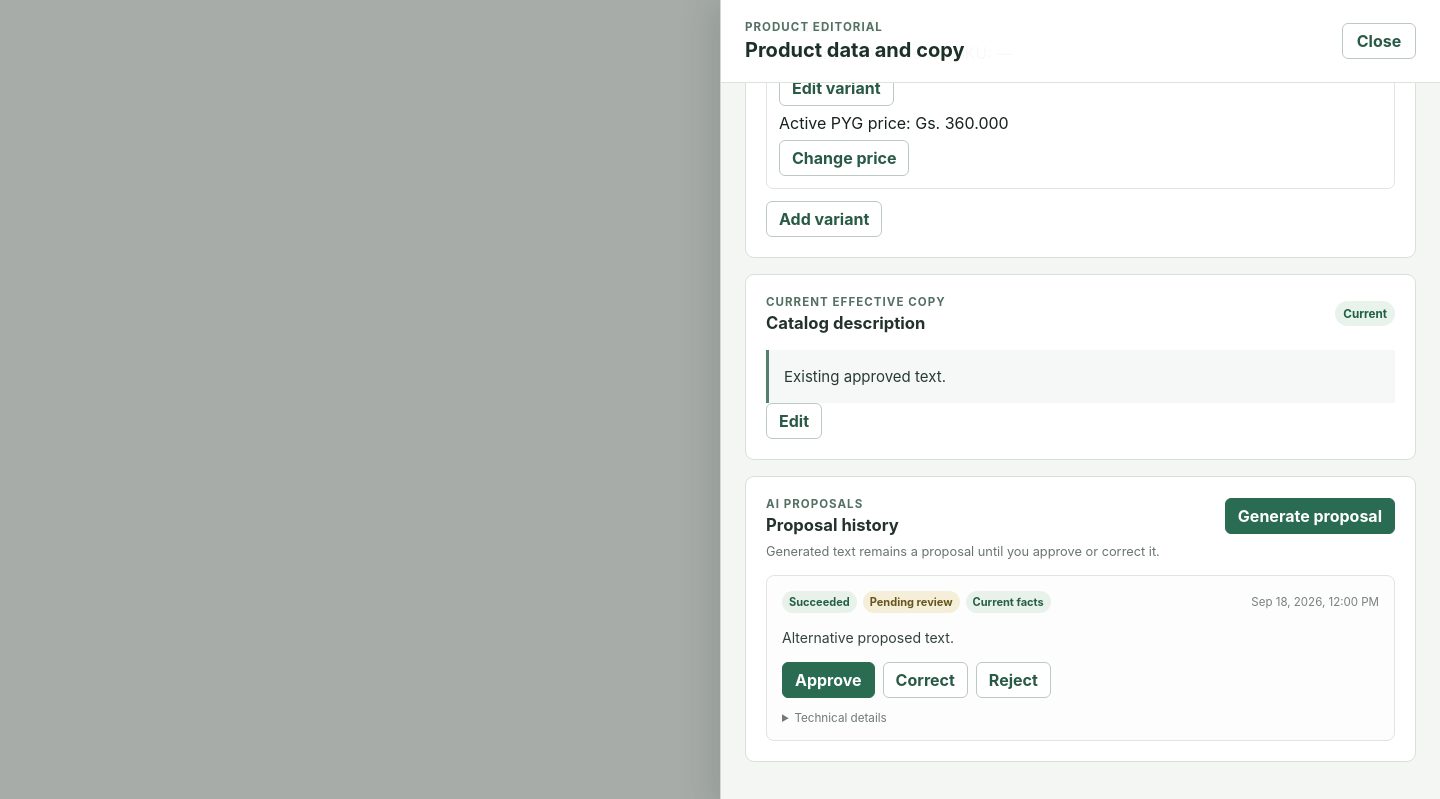
Test: ProductEditorialDrawer › edits current copy with cancel, validation, and save
(page scrolled)
Click the button "Edit" at (794, 421), box [766, 403, 822, 439]
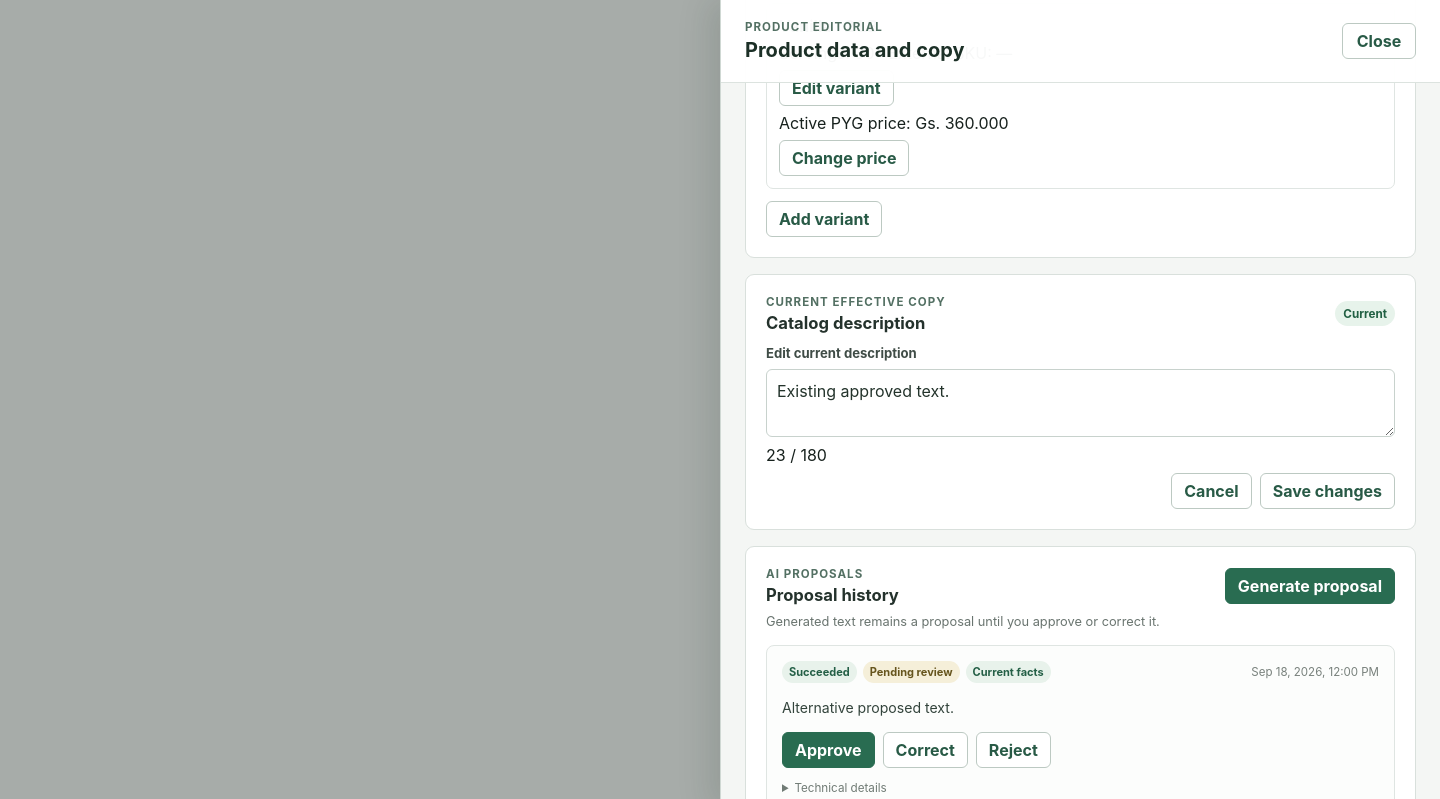
Now the text box labelled "Edit current description" holds "Existing approved text."
Now the text "23 / 180" is shown, box [766, 445, 827, 465]
Clear the text box labelled "Edit current description" at (1080, 403), box [766, 369, 1395, 437]
Click the button "Save changes" at (1327, 491), box [1260, 473, 1395, 509]
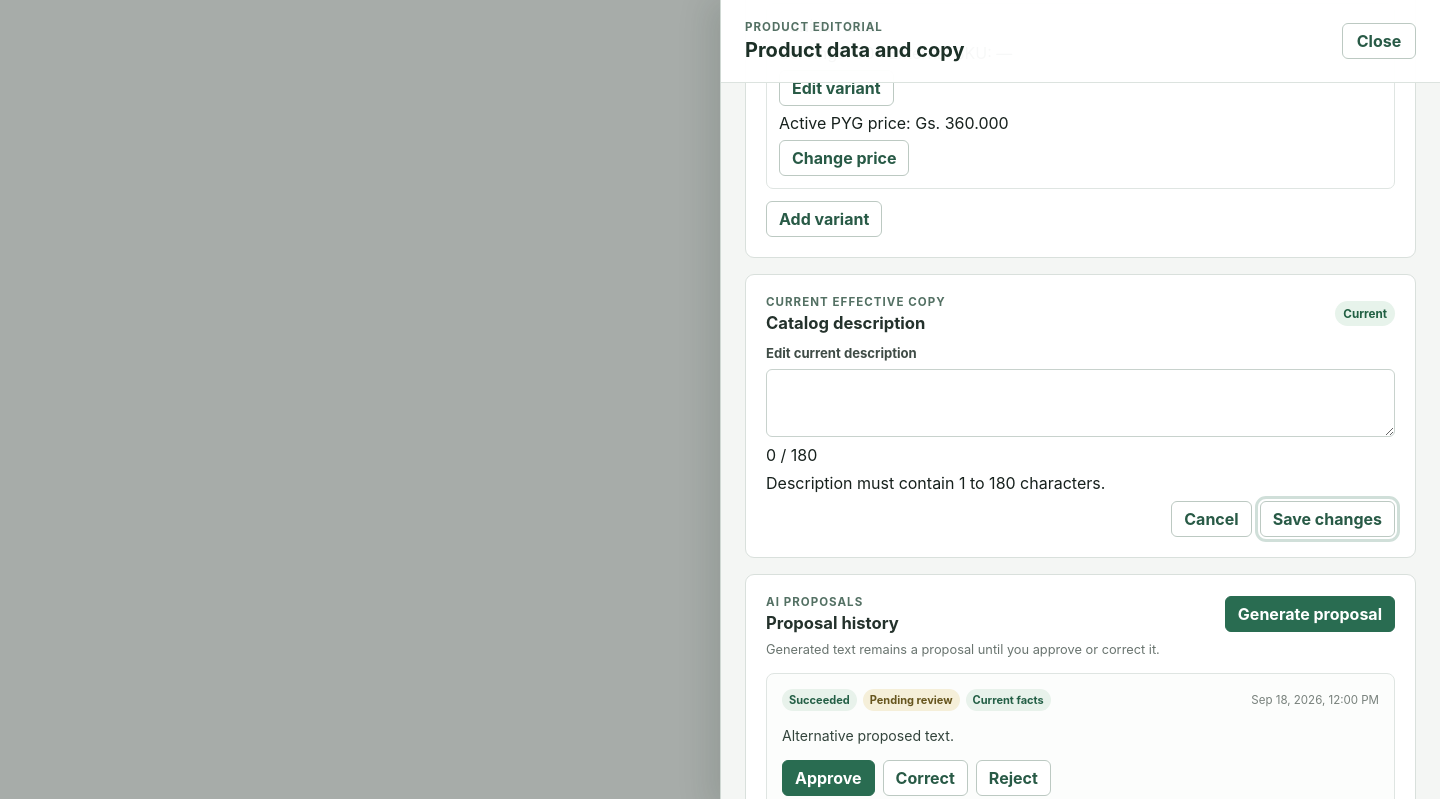
Now the text "Description must contain 1 to 180 characters." is shown, box [766, 473, 1105, 493]
Type "Discard me" into the text box labelled "Edit current description" at (1080, 403), box [766, 369, 1395, 437]
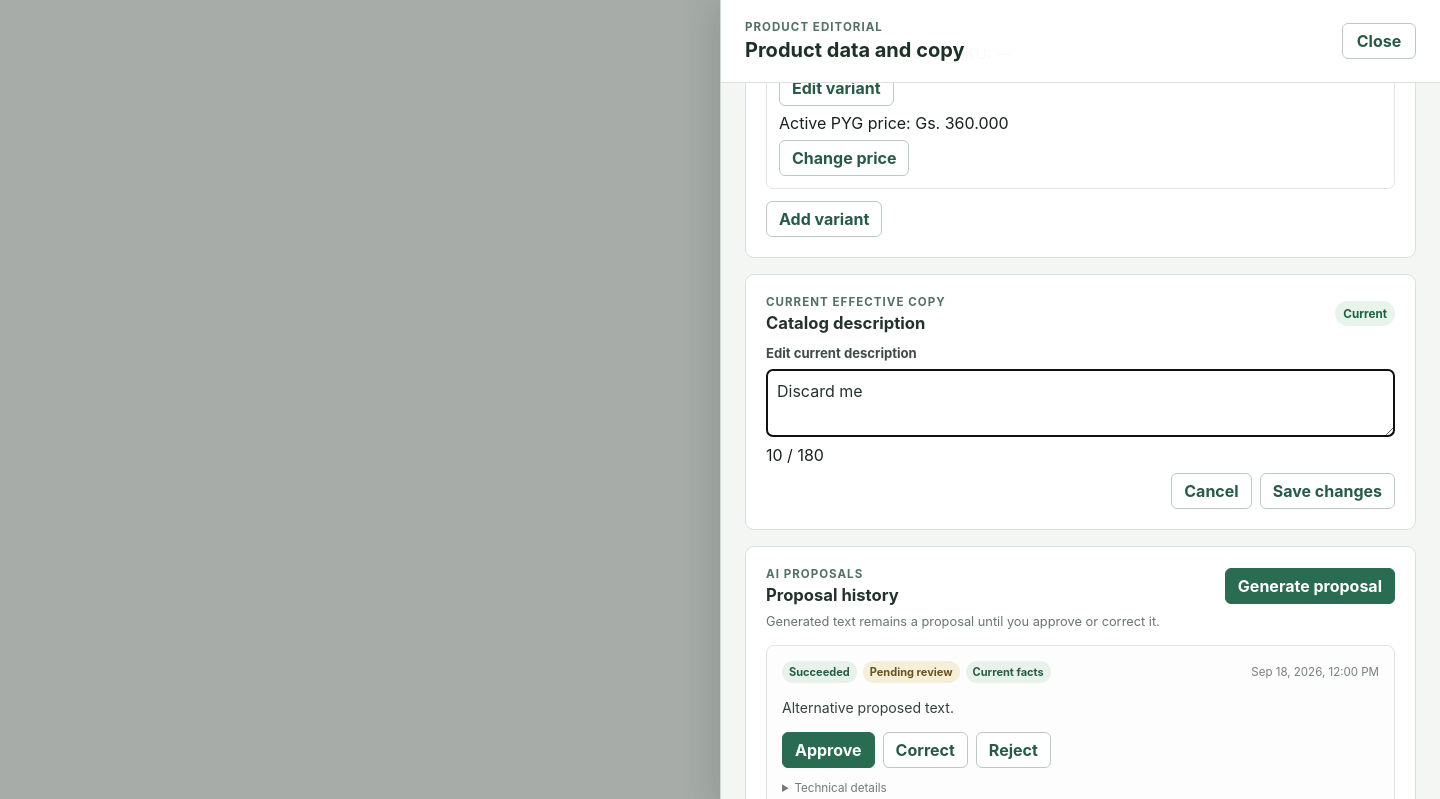
Click the button "Cancel" at (1212, 491), box [1171, 473, 1252, 509]
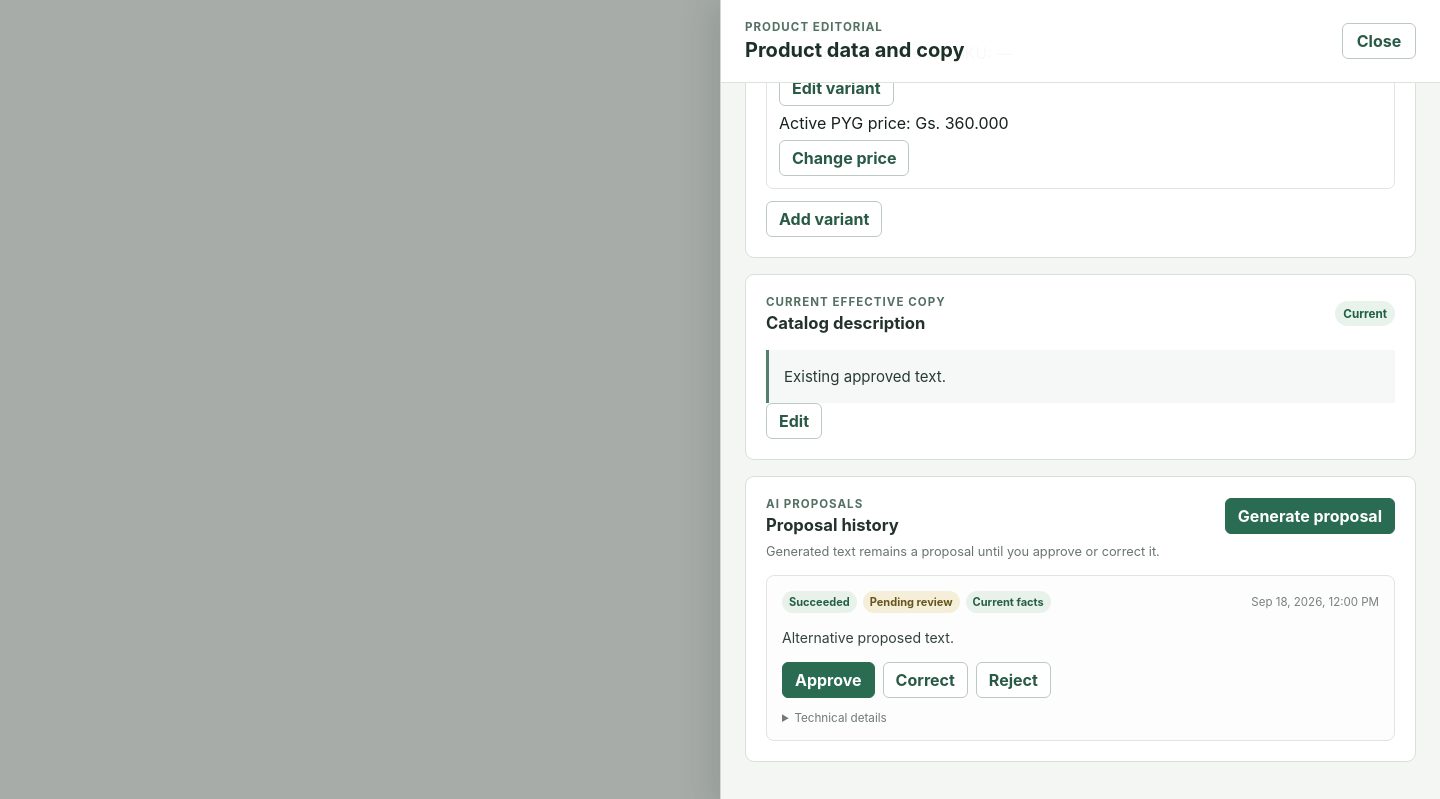
Now the text "Existing approved text." is shown, box [766, 350, 1395, 403]
Click the button "Edit" at (794, 421), box [766, 403, 822, 439]
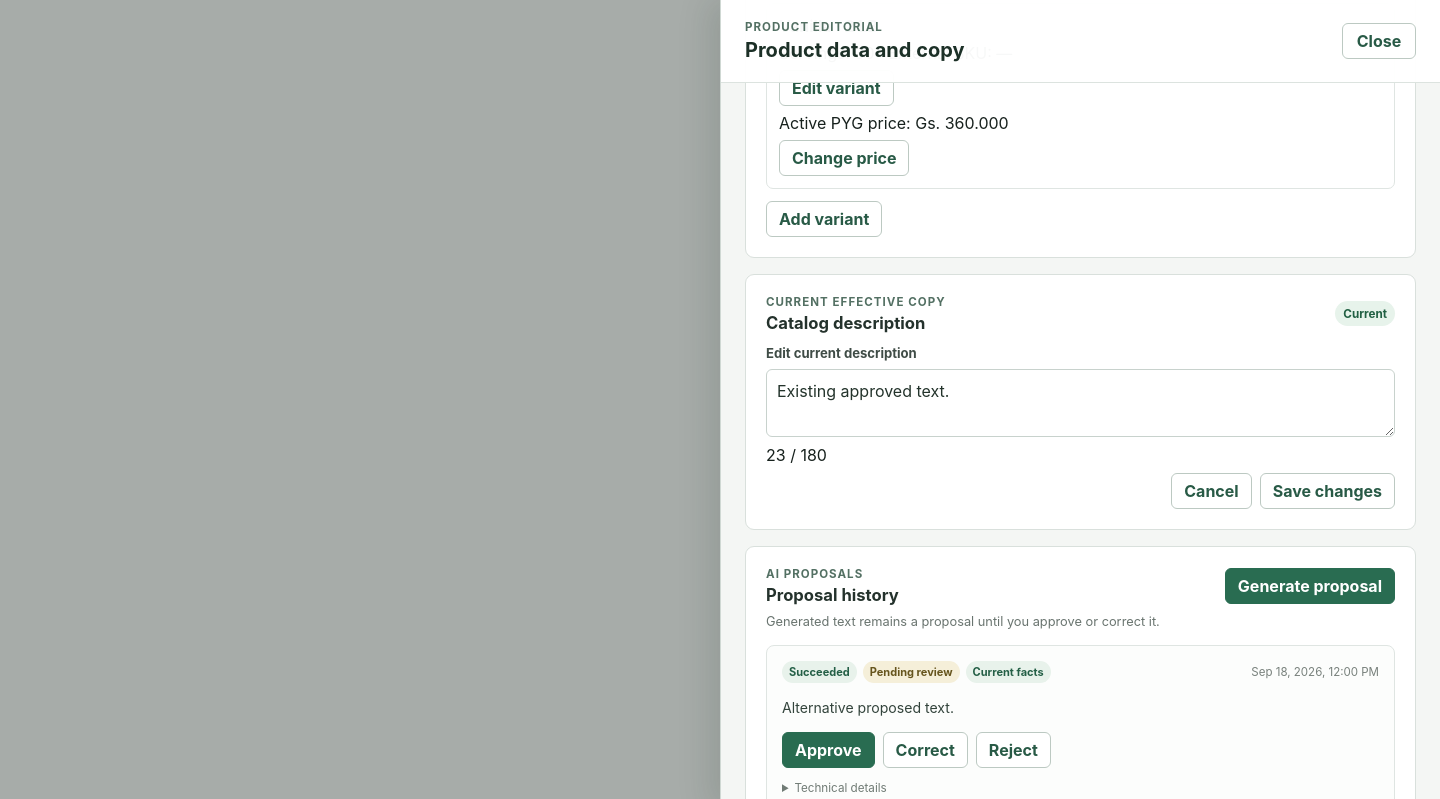
Replace the text in the text box labelled "Edit current description" with "Human copy." at (1080, 403), box [766, 369, 1395, 437]
Click the button "Save changes" at (1327, 491), box [1260, 473, 1395, 509]
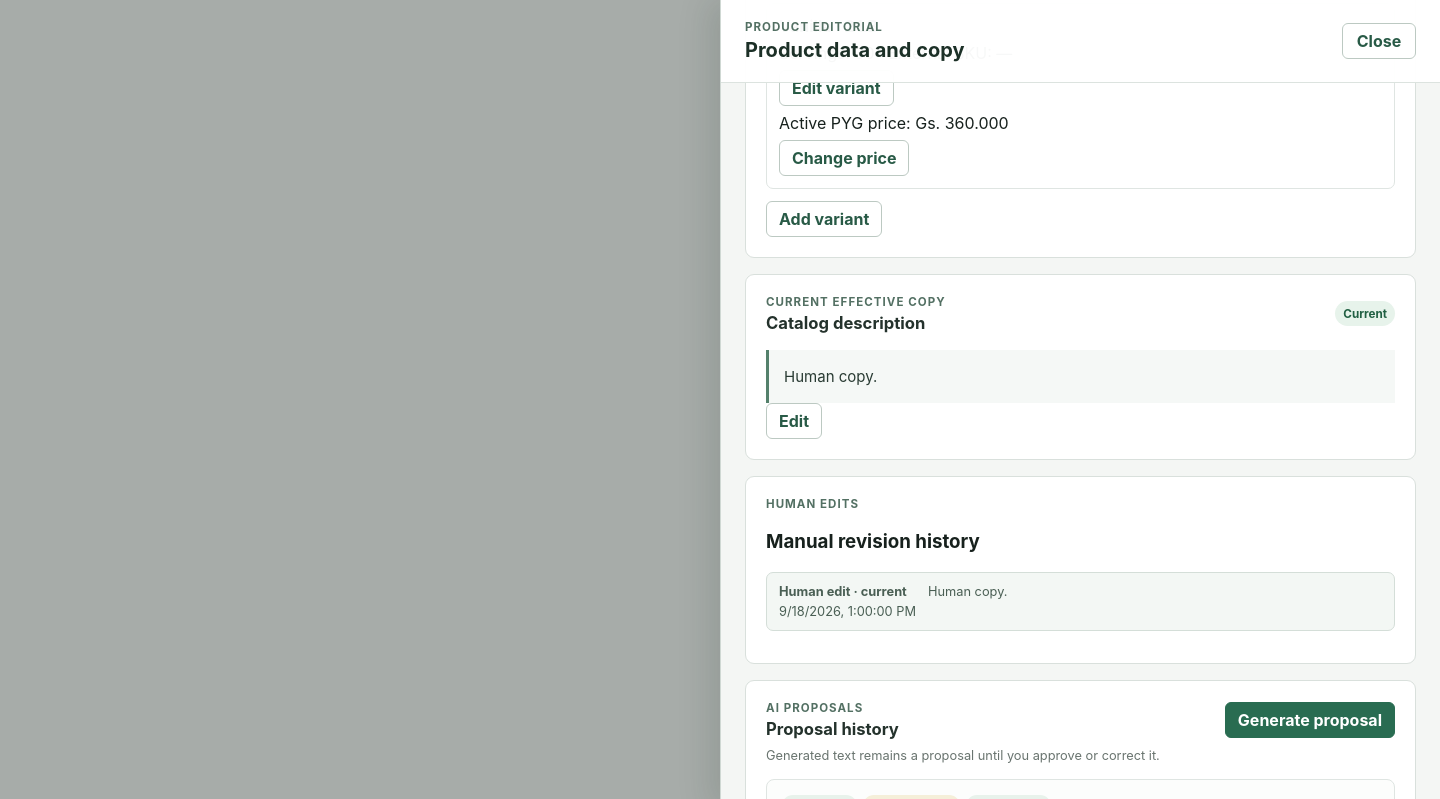
Now the text "Human copy." below "Catalog description" is shown, box [784, 367, 877, 386]
Now the element named "Human edit history" shows "Human edit", box [779, 584, 861, 599]
